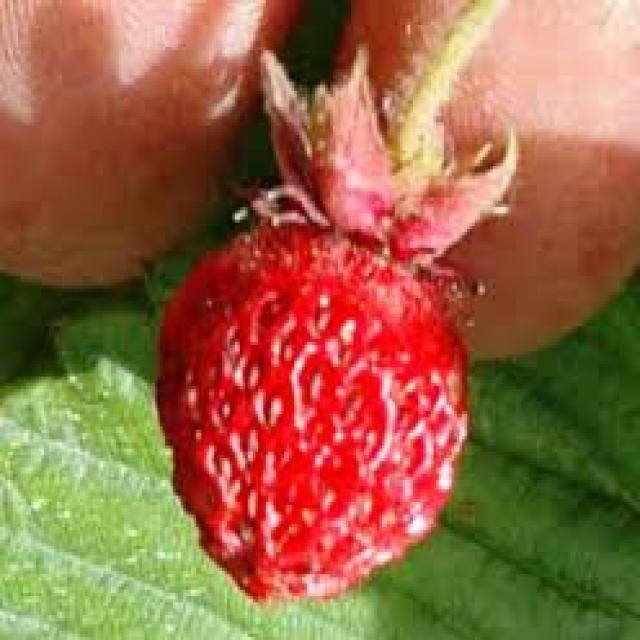organic waste: (150, 41, 518, 612)
